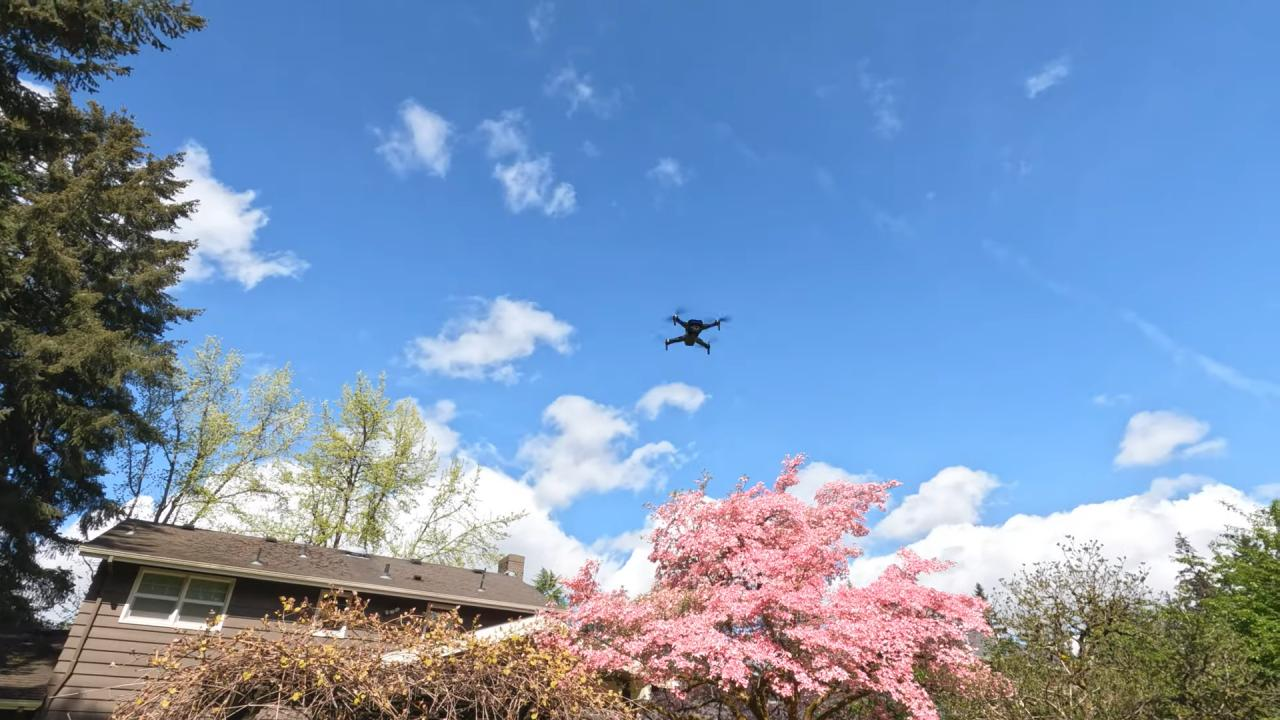Drone: (648, 299, 738, 366)
